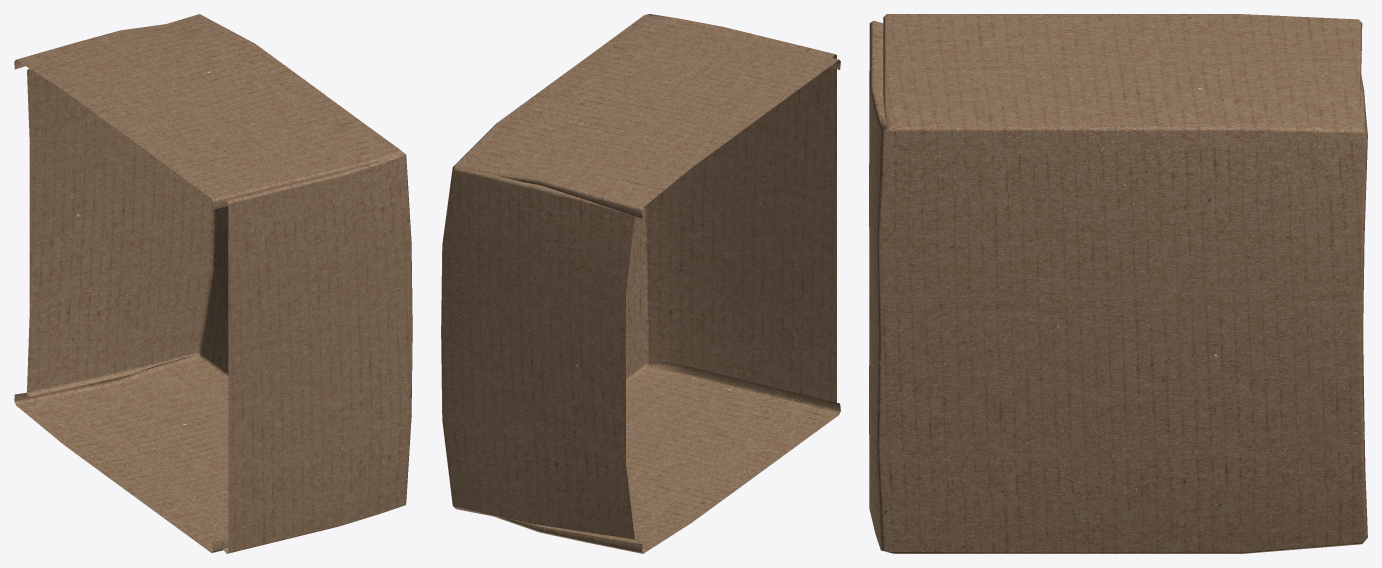
The model's file is SM_BGBox_001.fbx.
3 views of the same model, side by side, from view 1: azimuth 30°, elevation 25°; view 2: azimuth 150°, elevation 25°; view 3: azimuth 270°, elevation 25° (orthographic). The views are drawn at different scales.
Visible parts, largest first — view 1: EnvironmentBox_001; view 2: EnvironmentBox_001; view 3: EnvironmentBox_001.
Part boxes in pixels (x1=…): EnvironmentBox_001: x1=14, y1=14, x2=412, y2=553; EnvironmentBox_001: x1=441, y1=14, x2=840, y2=553; EnvironmentBox_001: x1=869, y1=14, x2=1367, y2=553.
Bounding box in the file's own units: 381 × 639 × 676.
